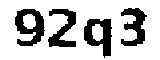2: (47, 8, 76, 51)
3: (118, 7, 146, 49)
9: (10, 7, 45, 52)
q: (80, 16, 113, 60)
